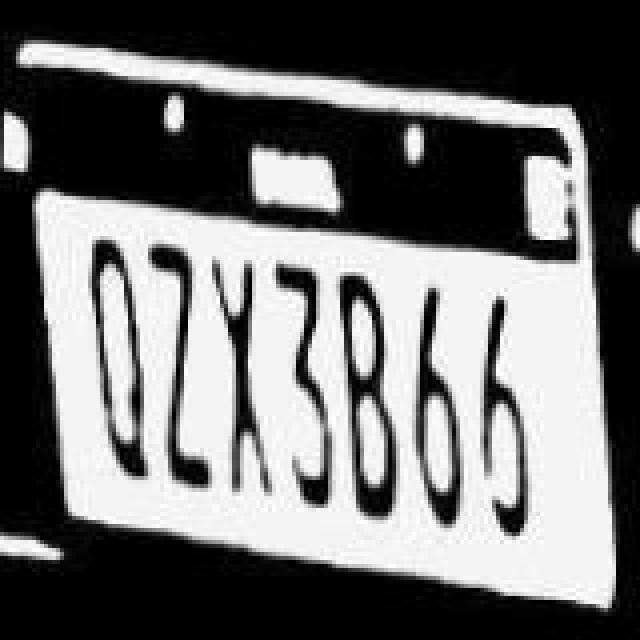3: (264, 266, 332, 514)
6: (466, 288, 538, 540), (406, 280, 470, 520)
B: (326, 268, 406, 520)
Q: (78, 222, 154, 474)
X: (204, 248, 276, 504)
Z: (140, 234, 220, 494)
